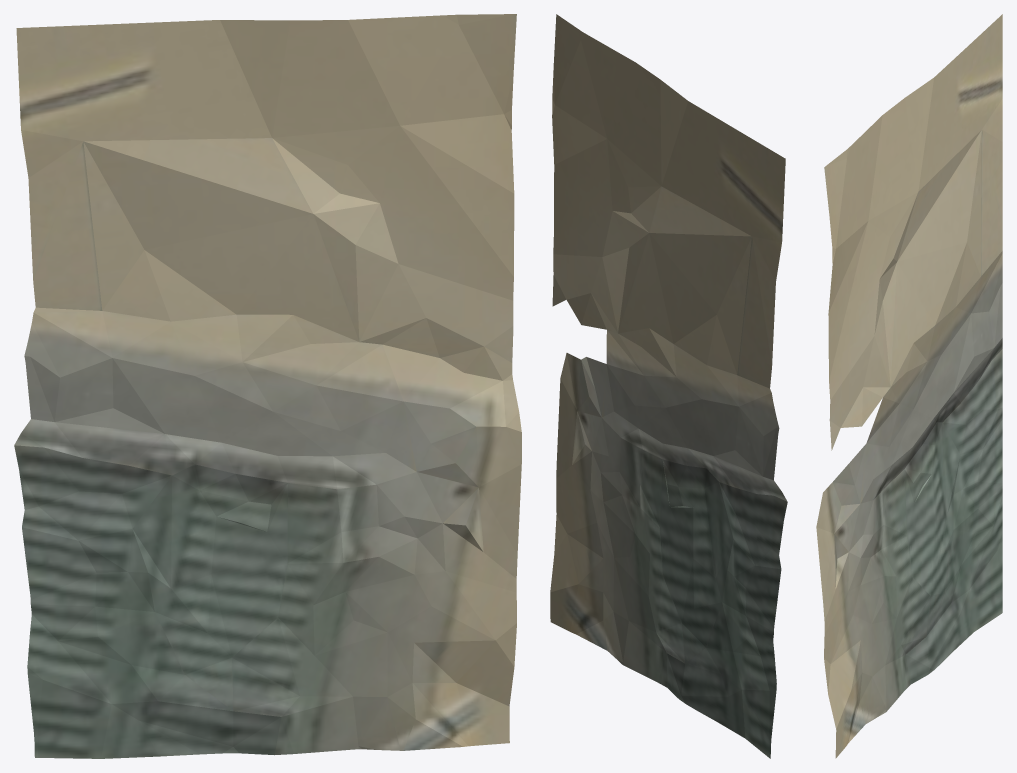
The picture shows the model from 3 angles, left to right: view 1: azimuth 30°, elevation 25°; view 2: azimuth 150°, elevation 25°; view 3: azimuth 270°, elevation 25°; orthographic projection. The views are drawn at different scales.
Size of the model in its own units: 0.9358 by 1.67 by 0.4779.
Materials: 2 (2 with a texture image).
